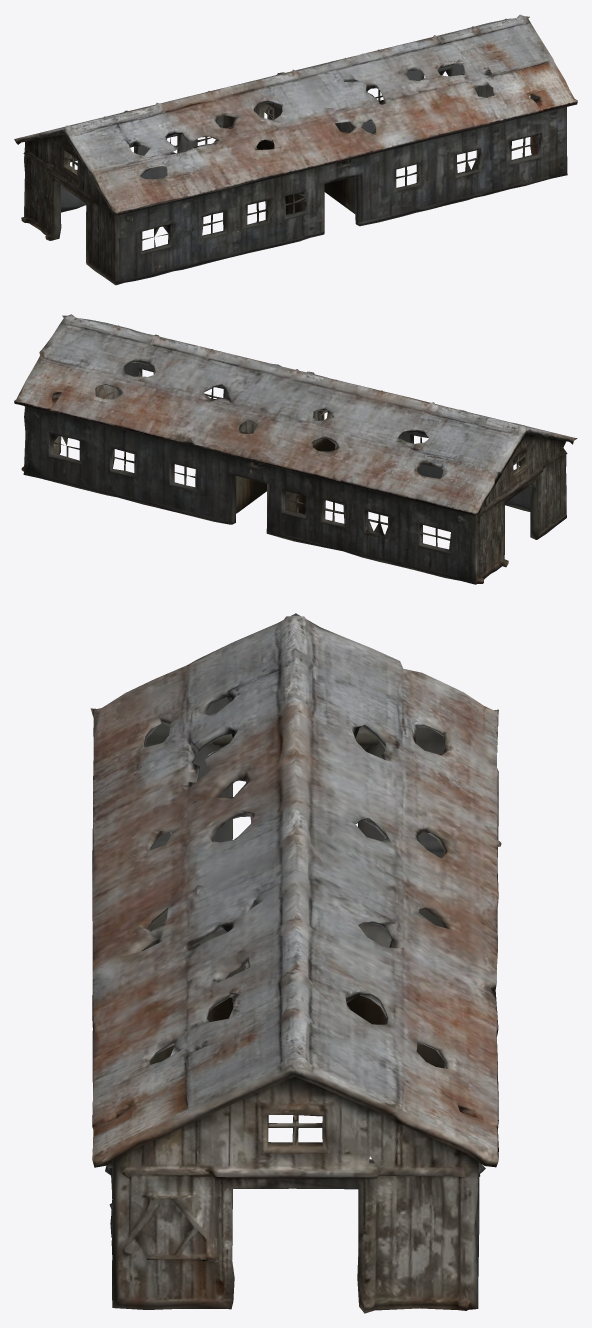
Rendered from ul_barn_long.glb.
The picture shows the model from 3 angles, top to bottom: view 1: azimuth 30°, elevation 25°; view 2: azimuth 150°, elevation 25°; view 3: azimuth 270°, elevation 25°; orthographic projection. The views are drawn at different scales.
Parts seen in each view (by area): view 1: tripo_node_083d1cd0-69c1-41b3-8d57-0f1c32f08c2d; view 2: tripo_node_083d1cd0-69c1-41b3-8d57-0f1c32f08c2d; view 3: tripo_node_083d1cd0-69c1-41b3-8d57-0f1c32f08c2d.
Part boxes in pixels (bbox=[...]): tripo_node_083d1cd0-69c1-41b3-8d57-0f1c32f08c2d: bbox=[14, 14, 577, 285]; tripo_node_083d1cd0-69c1-41b3-8d57-0f1c32f08c2d: bbox=[14, 314, 577, 584]; tripo_node_083d1cd0-69c1-41b3-8d57-0f1c32f08c2d: bbox=[90, 613, 501, 1313].
Size of the model in its own units: 1 by 0.2629 by 0.382.
1 material, 1 textured.
